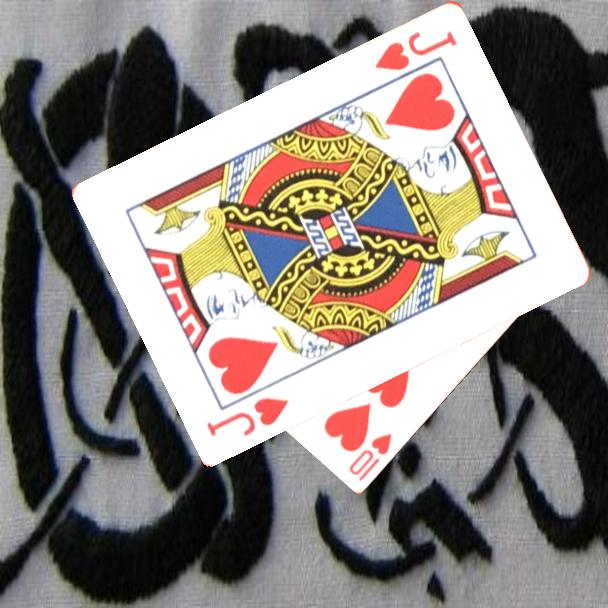h10: (346, 429, 395, 483)
h11: (371, 26, 461, 73), (203, 393, 292, 439)
